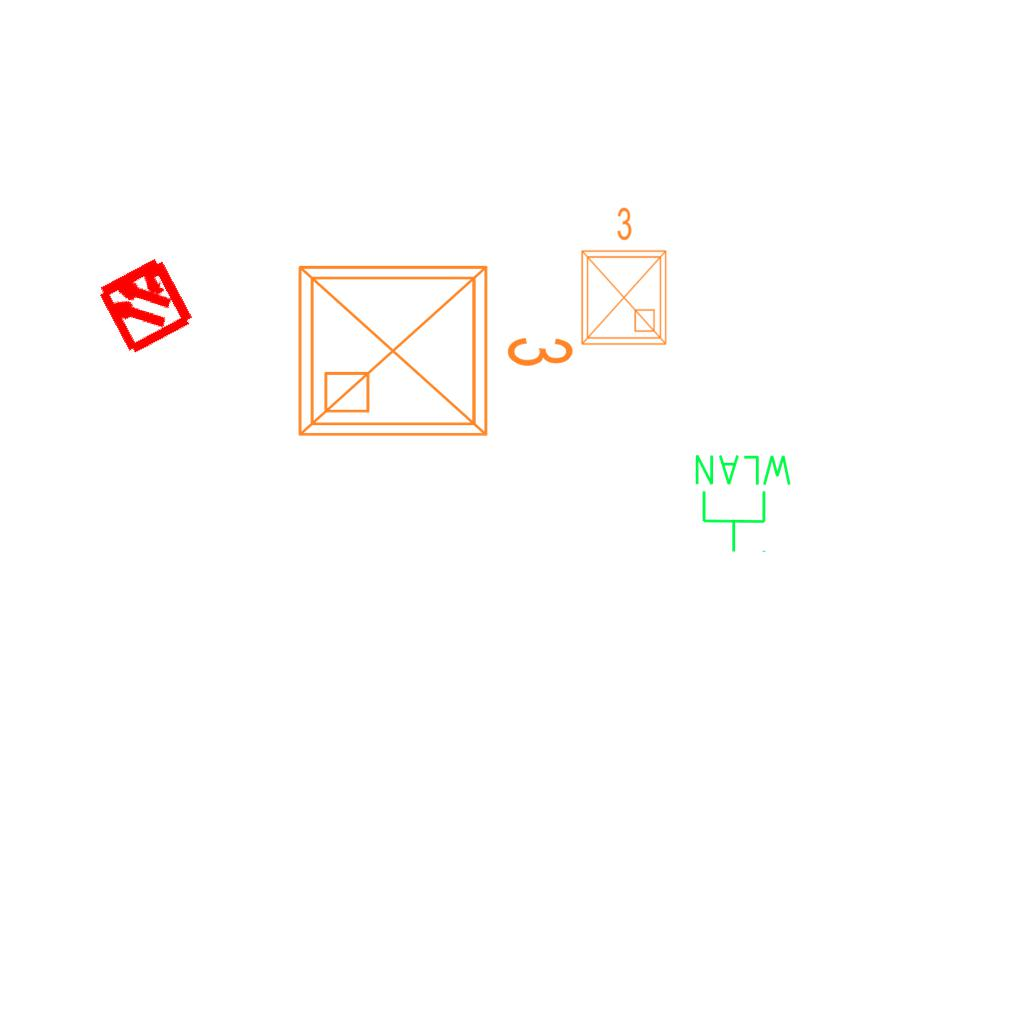Einbaudownlights_LED_Konferenzraeume: (284, 243, 584, 451), (570, 202, 674, 352)
OT_Multisensormelder_(Kombination_RMO_WMD): (68, 227, 221, 380)
WLAN: (691, 451, 796, 555)
